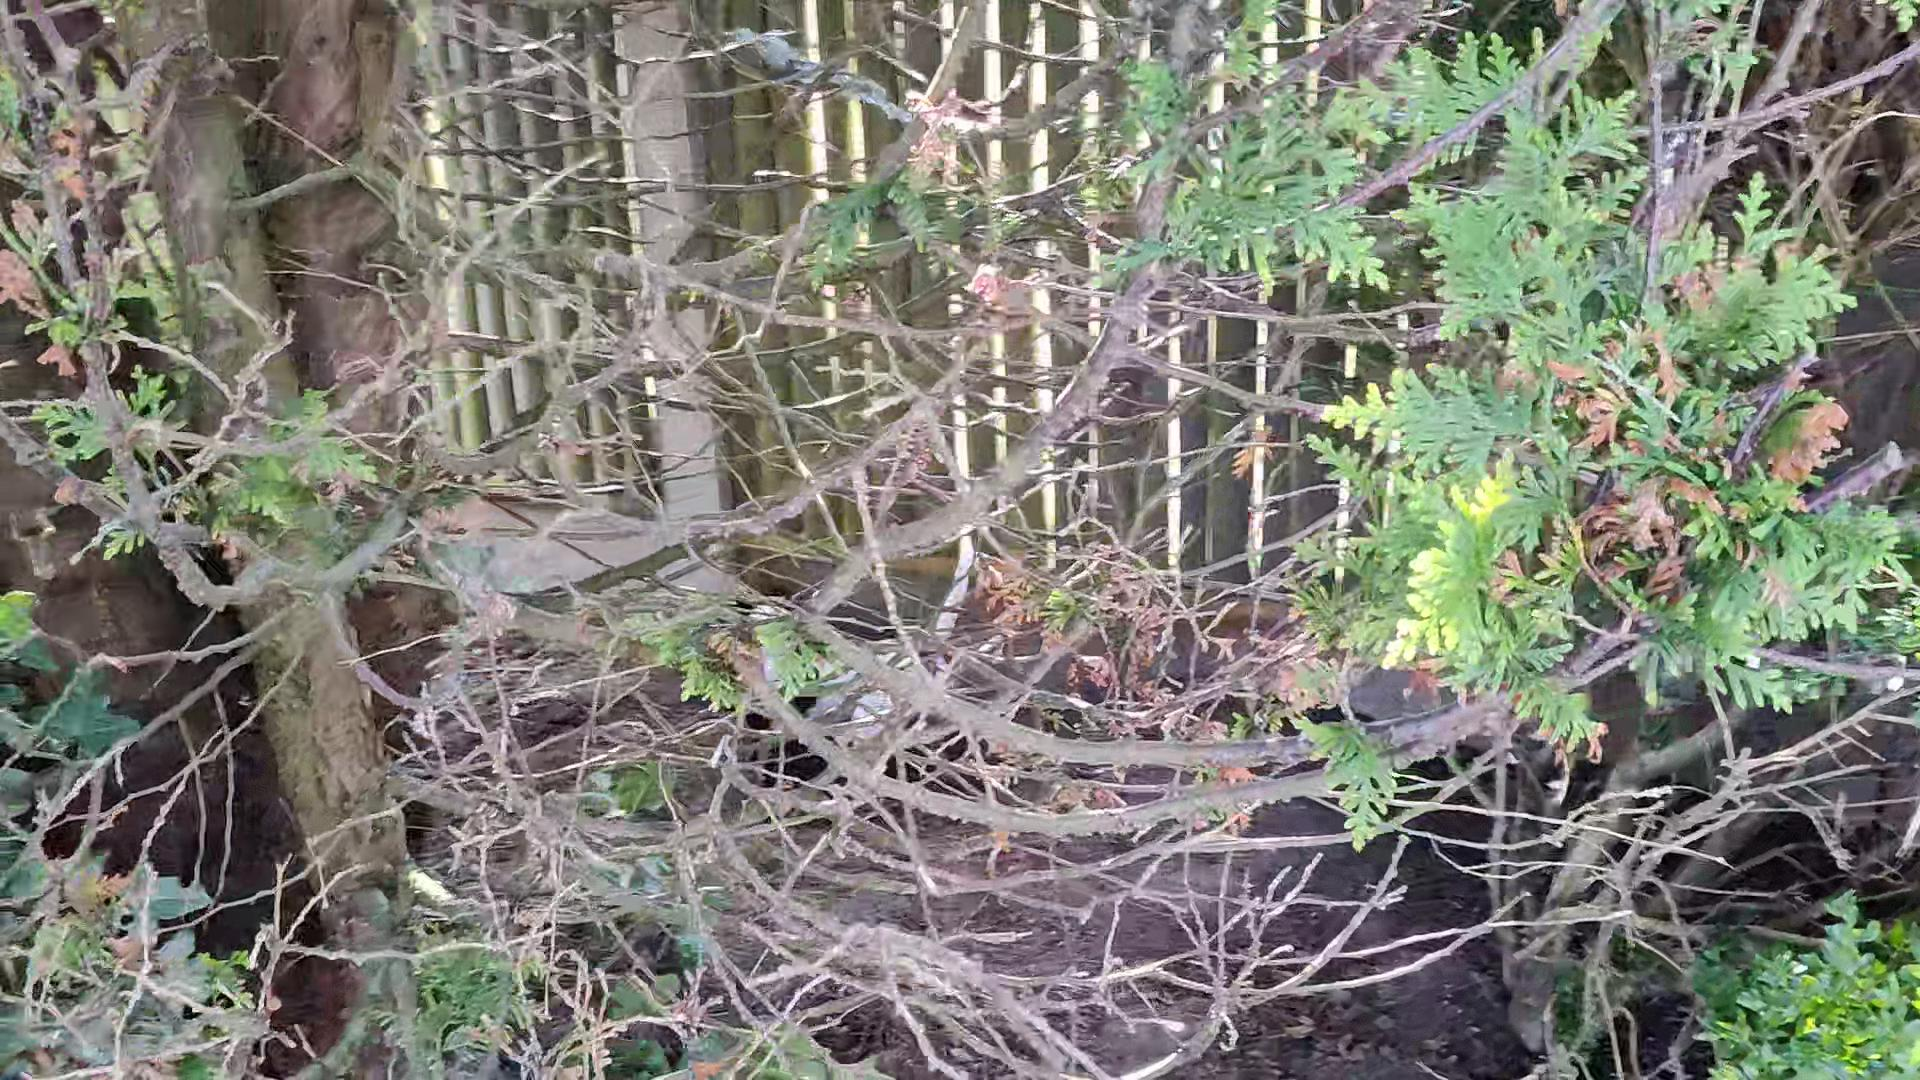Dog: (716, 516, 981, 777)
